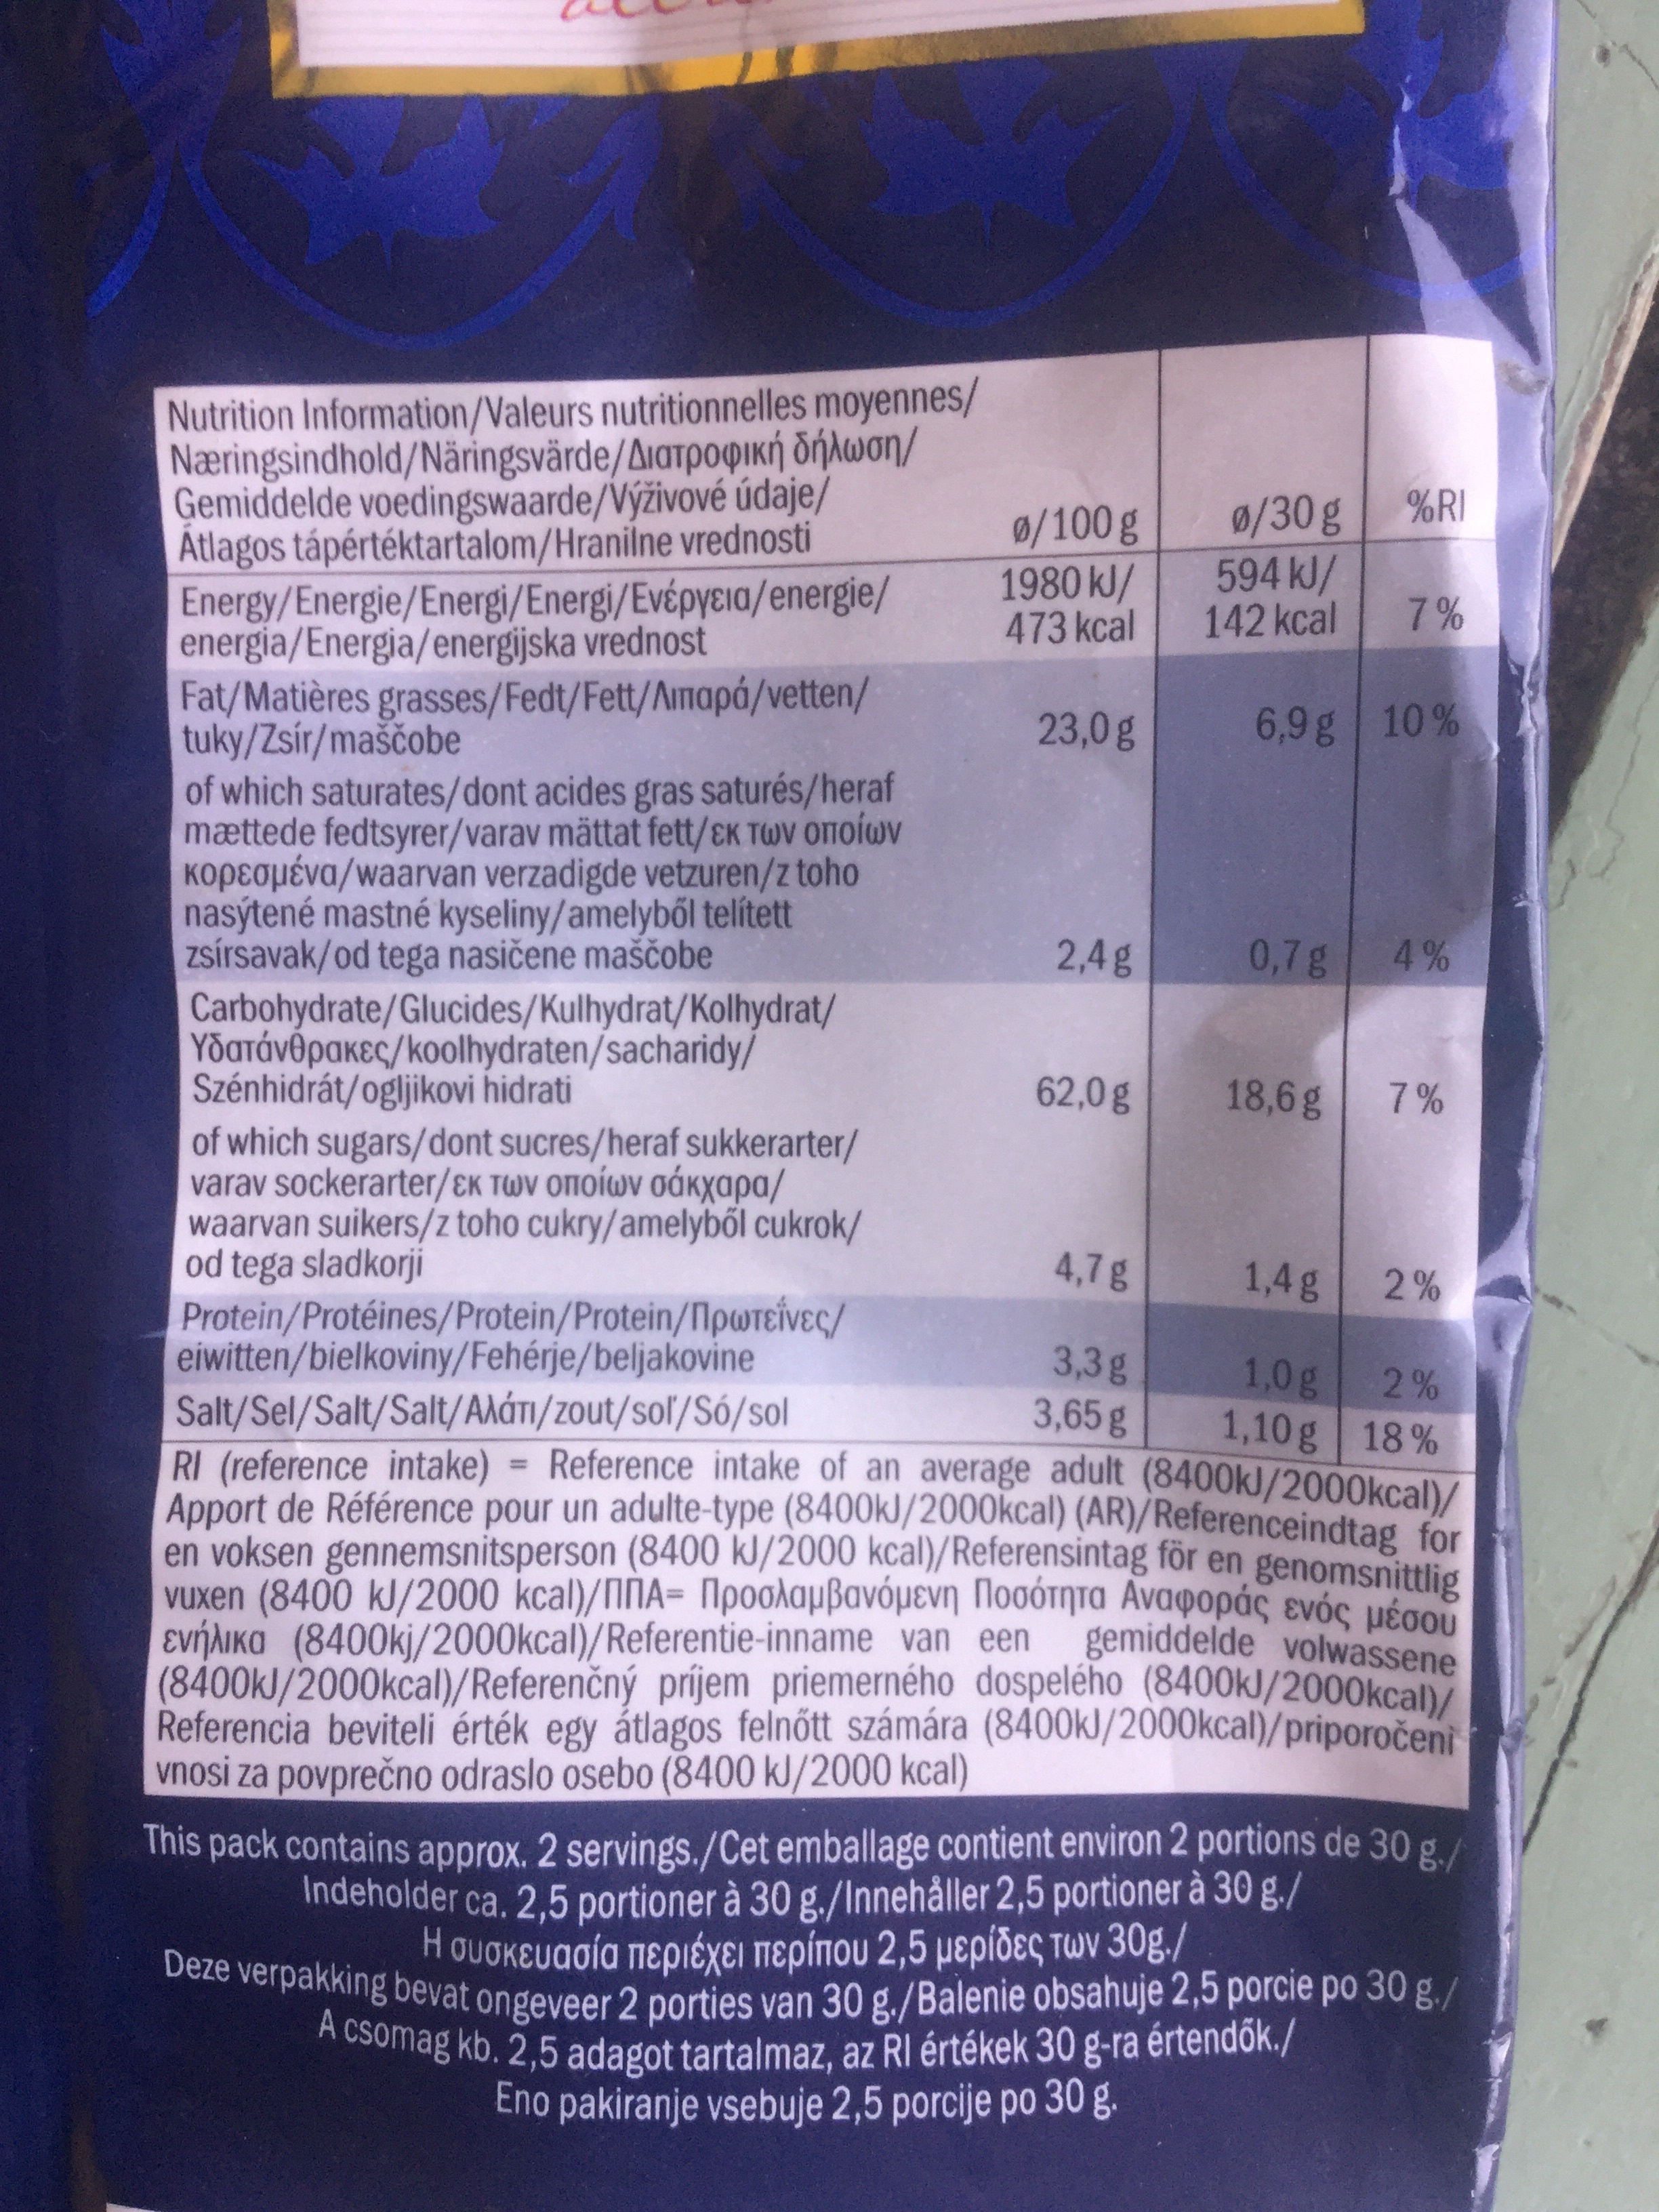column: (171, 373, 978, 1447), (1197, 378, 1342, 1447), (1004, 503, 1138, 1442), (1366, 378, 1478, 1458)
table: (157, 354, 1497, 1458)
